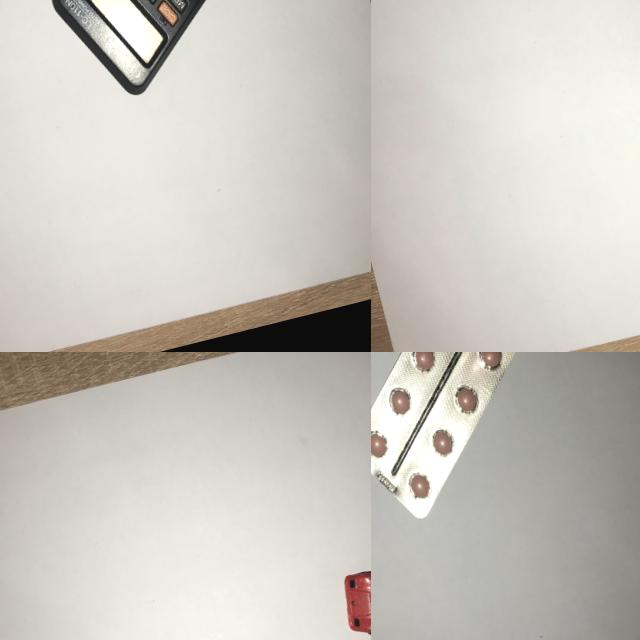calculator: (15, 0, 271, 114)
car: (329, 536, 371, 640)
tablets: (371, 352, 585, 537)
